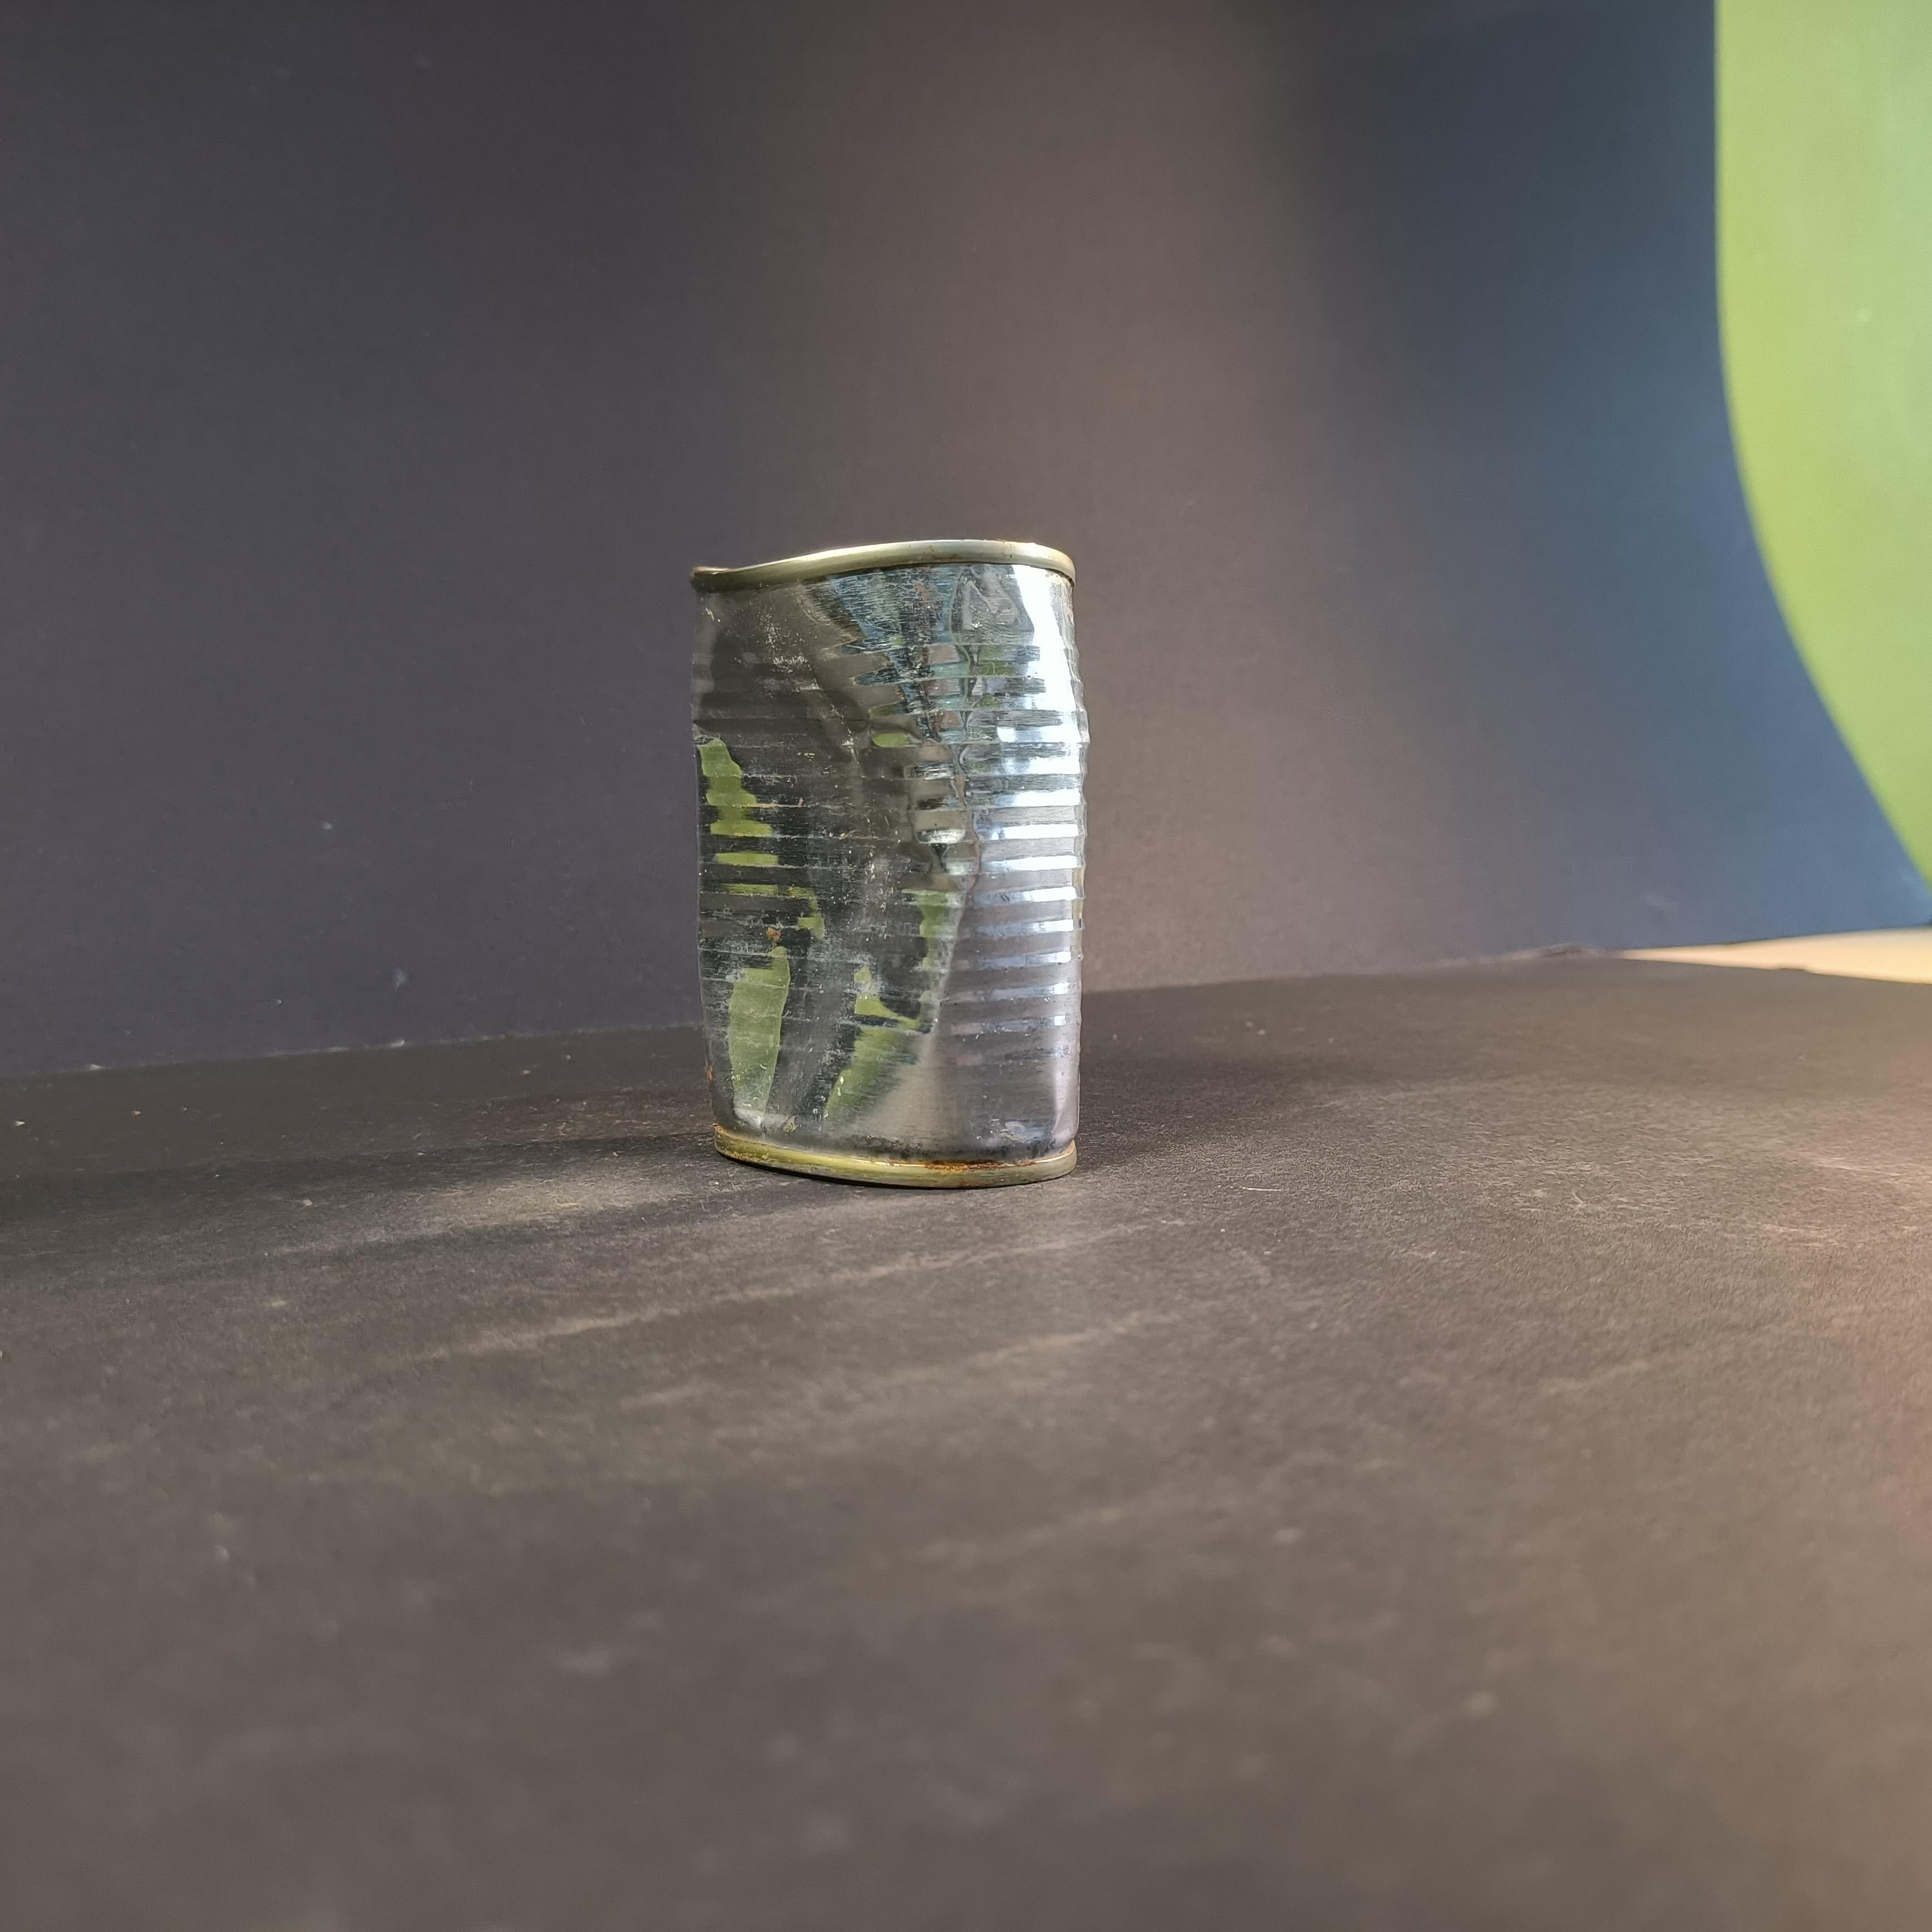Dented: (674, 520, 1108, 1196)
